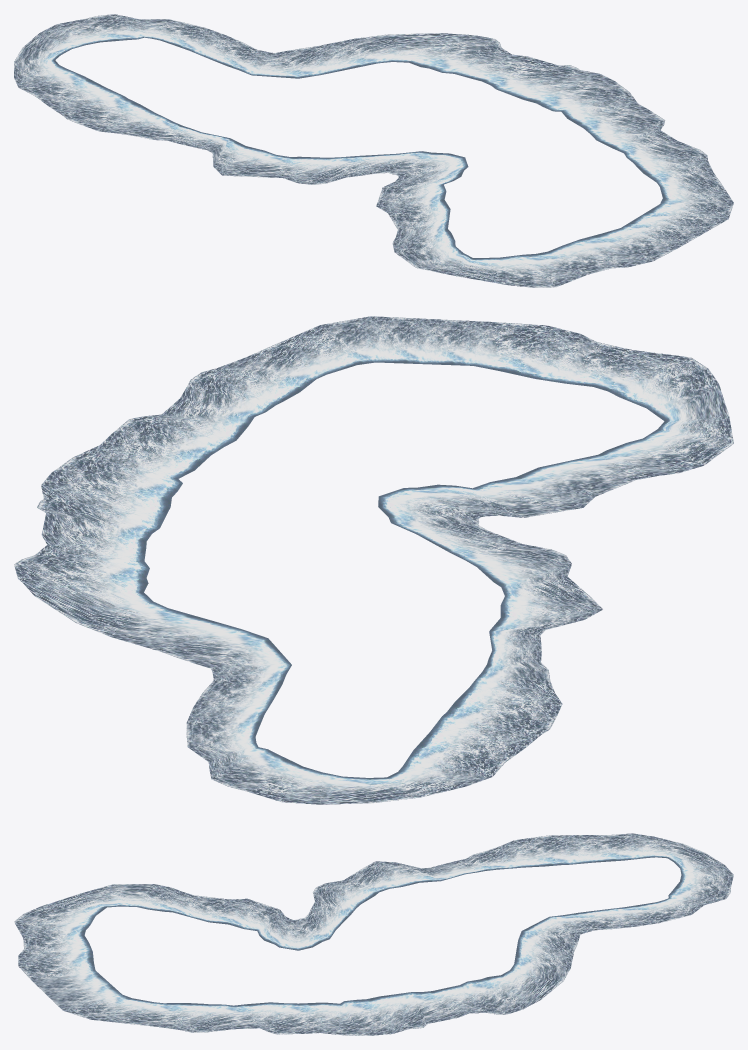
Rendered from island_09_coast.fbx.
3 views of the same model, one above another, from view 1: azimuth 30°, elevation 25°; view 2: azimuth 150°, elevation 25°; view 3: azimuth 270°, elevation 25° (orthographic). The views are drawn at different scales.
Visible parts, largest first — view 1: island_09_coast1; view 2: island_09_coast1; view 3: island_09_coast1.
Boxes of the visible parts, <box> form: island_09_coast1: <box>14,14,733,287</box>; island_09_coast1: <box>14,316,733,804</box>; island_09_coast1: <box>14,833,733,1035</box>.
Size of the model in its own units: 64.2 by 3.5e-15 by 96.58.
